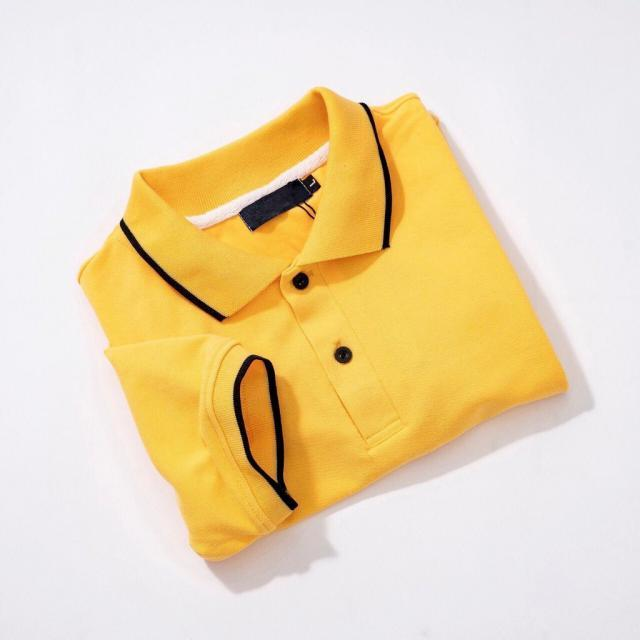Shirt: (77, 83, 571, 567)
